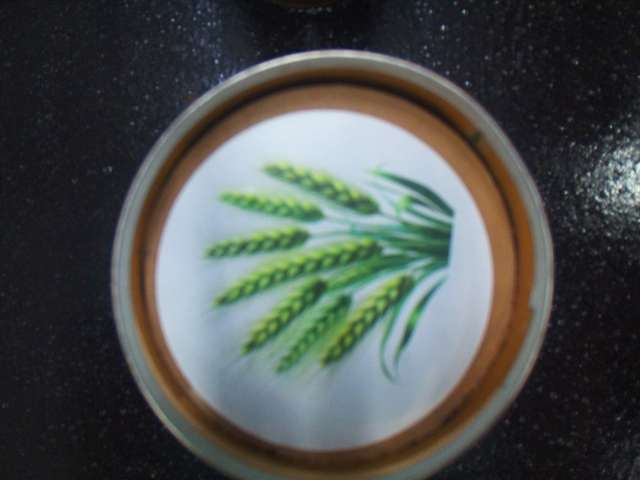wheat_barrel: (195, 142, 465, 399)
